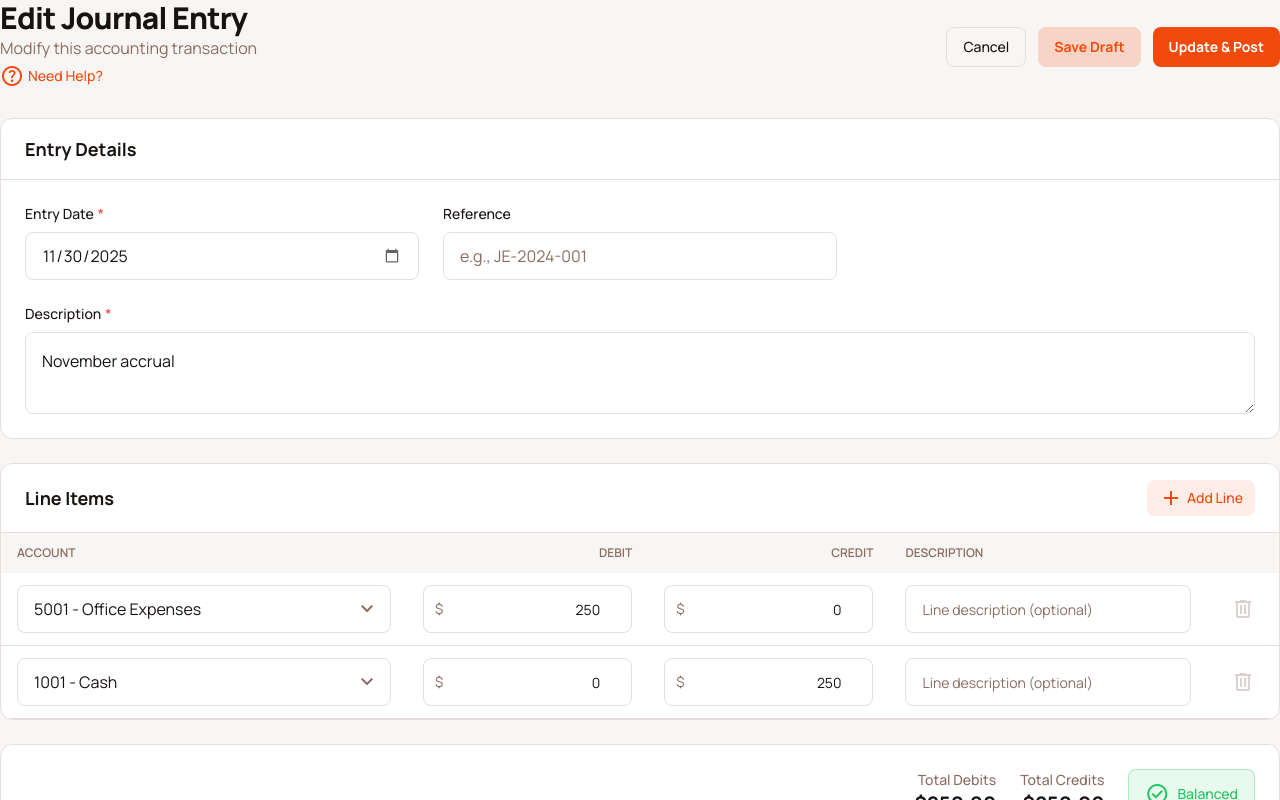
Test case: locked period on the accounting forms (SOUPFIN-158) › a journal entry shows the lock under Entry Date and stays on the form
Check: the date field with test id "journal-entry-date-input" holds "2025-11-30", box [25,232,419,280]
What coordinates should you click on to do the following:
click the button with test id "journal-entry-save-draft-button"
I would click on:
 (1089, 47)
Its box is [1038,27,1141,67].
(page scrolled)
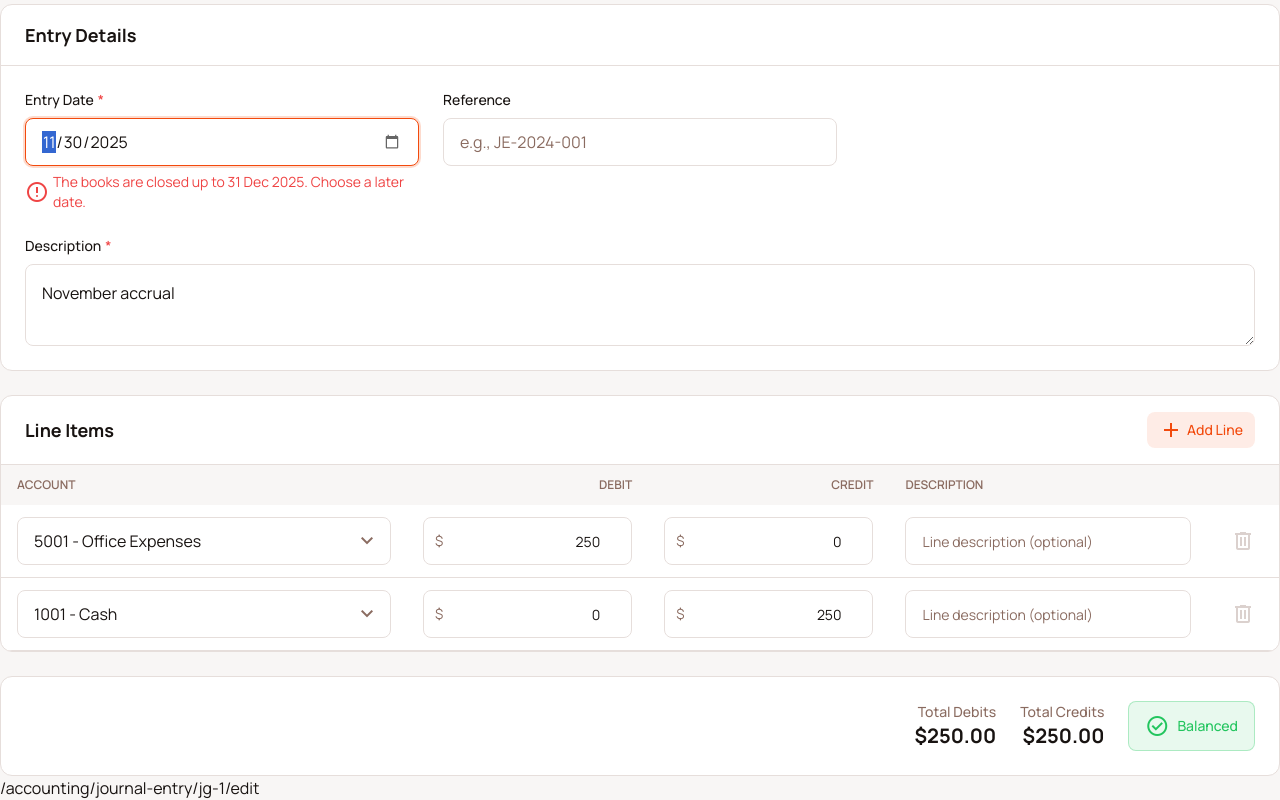
Check: the text with test id "location" reads "/accounting/journal-entry/jg-1/edit", box [0,777,259,799]
Check: the text "The books are closed up to 31 Dec 2025. Choose a later date." is shown, box [25,172,419,212]
